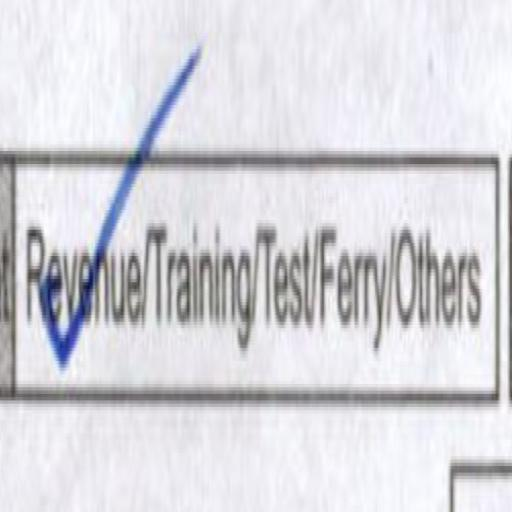check: (22, 112, 150, 434)
